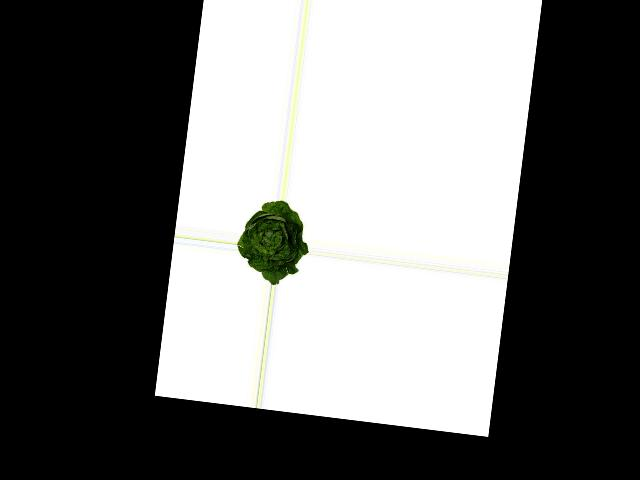lettuce: (234, 195, 314, 286)
